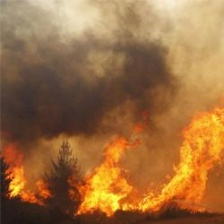fire: (2, 106, 222, 213)
smoke: (4, 8, 170, 134)
